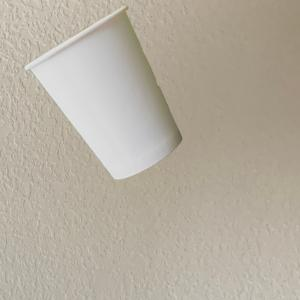cup: (24, 4, 183, 183)
